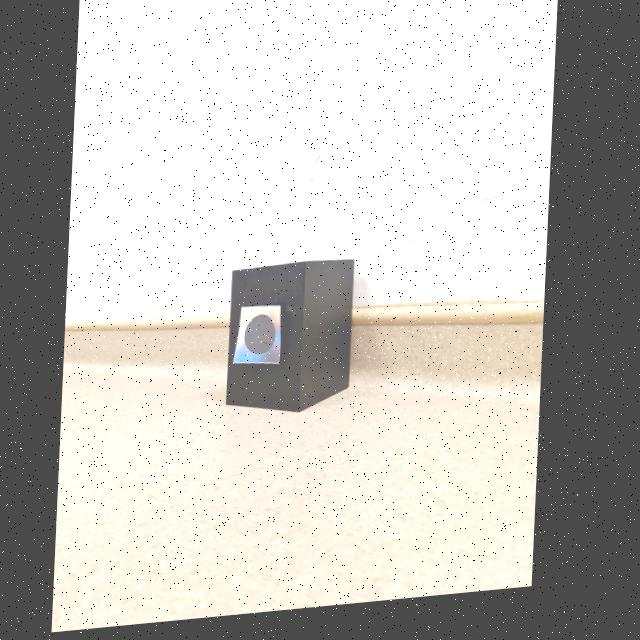CIRCLE: (248, 319, 278, 361)
